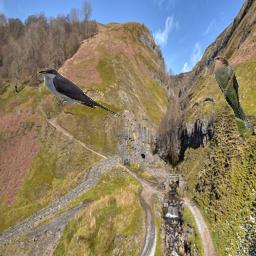Cuckoo: (37, 68, 122, 119), (207, 56, 252, 142)
